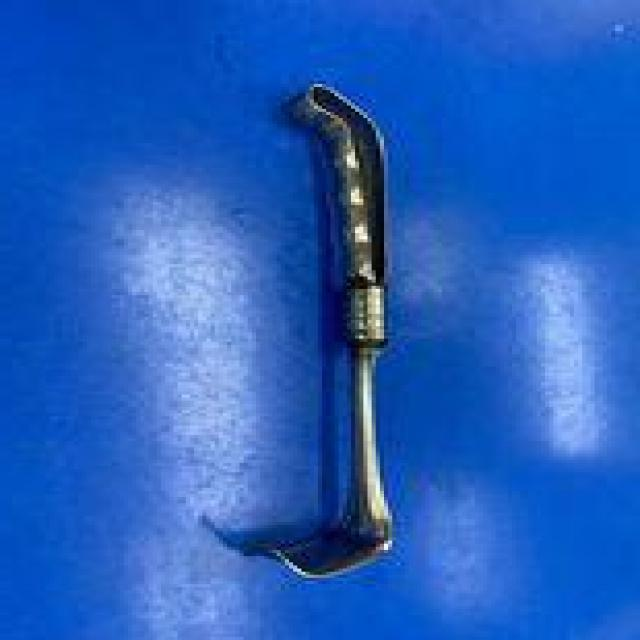Richardson: (260, 78, 401, 582)
